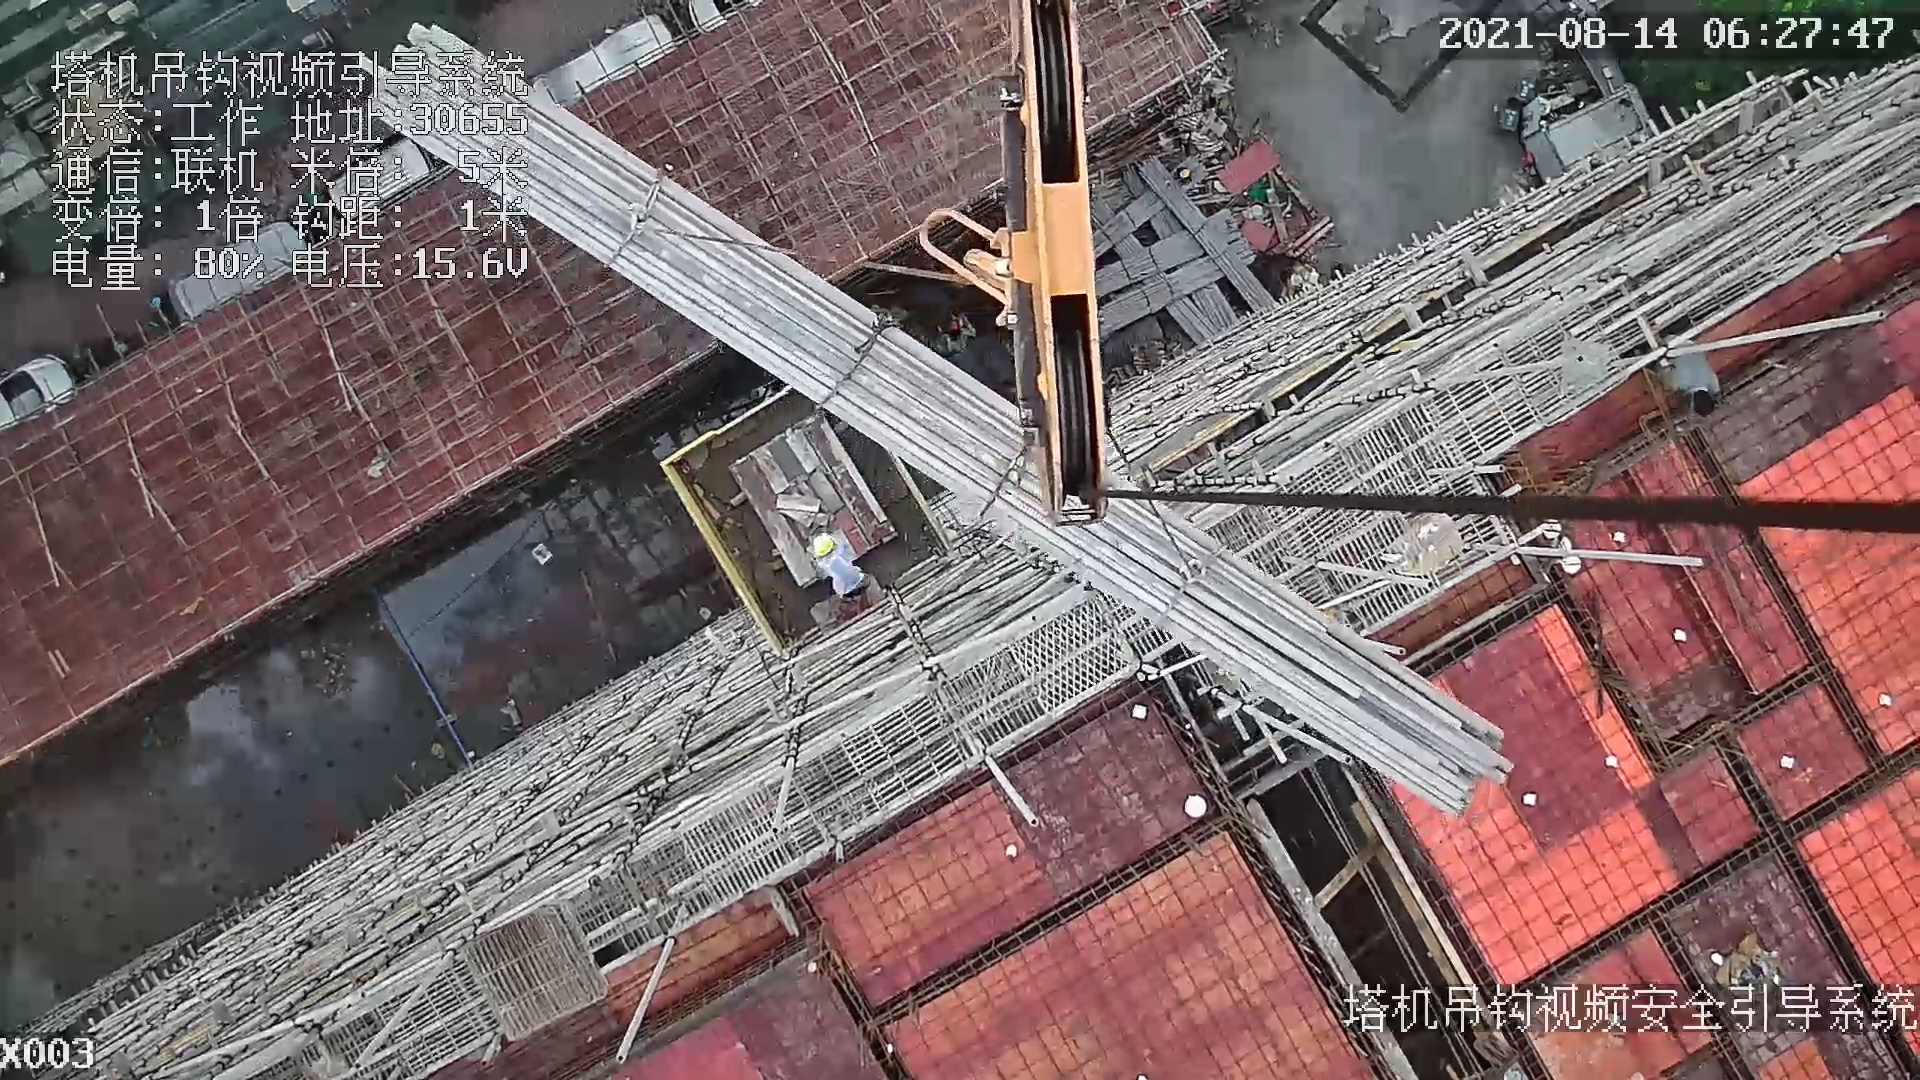helmet: (810, 527, 843, 561)
hook: (995, 1, 1112, 530)
person: (1658, 339, 1728, 424), (809, 530, 883, 601)
